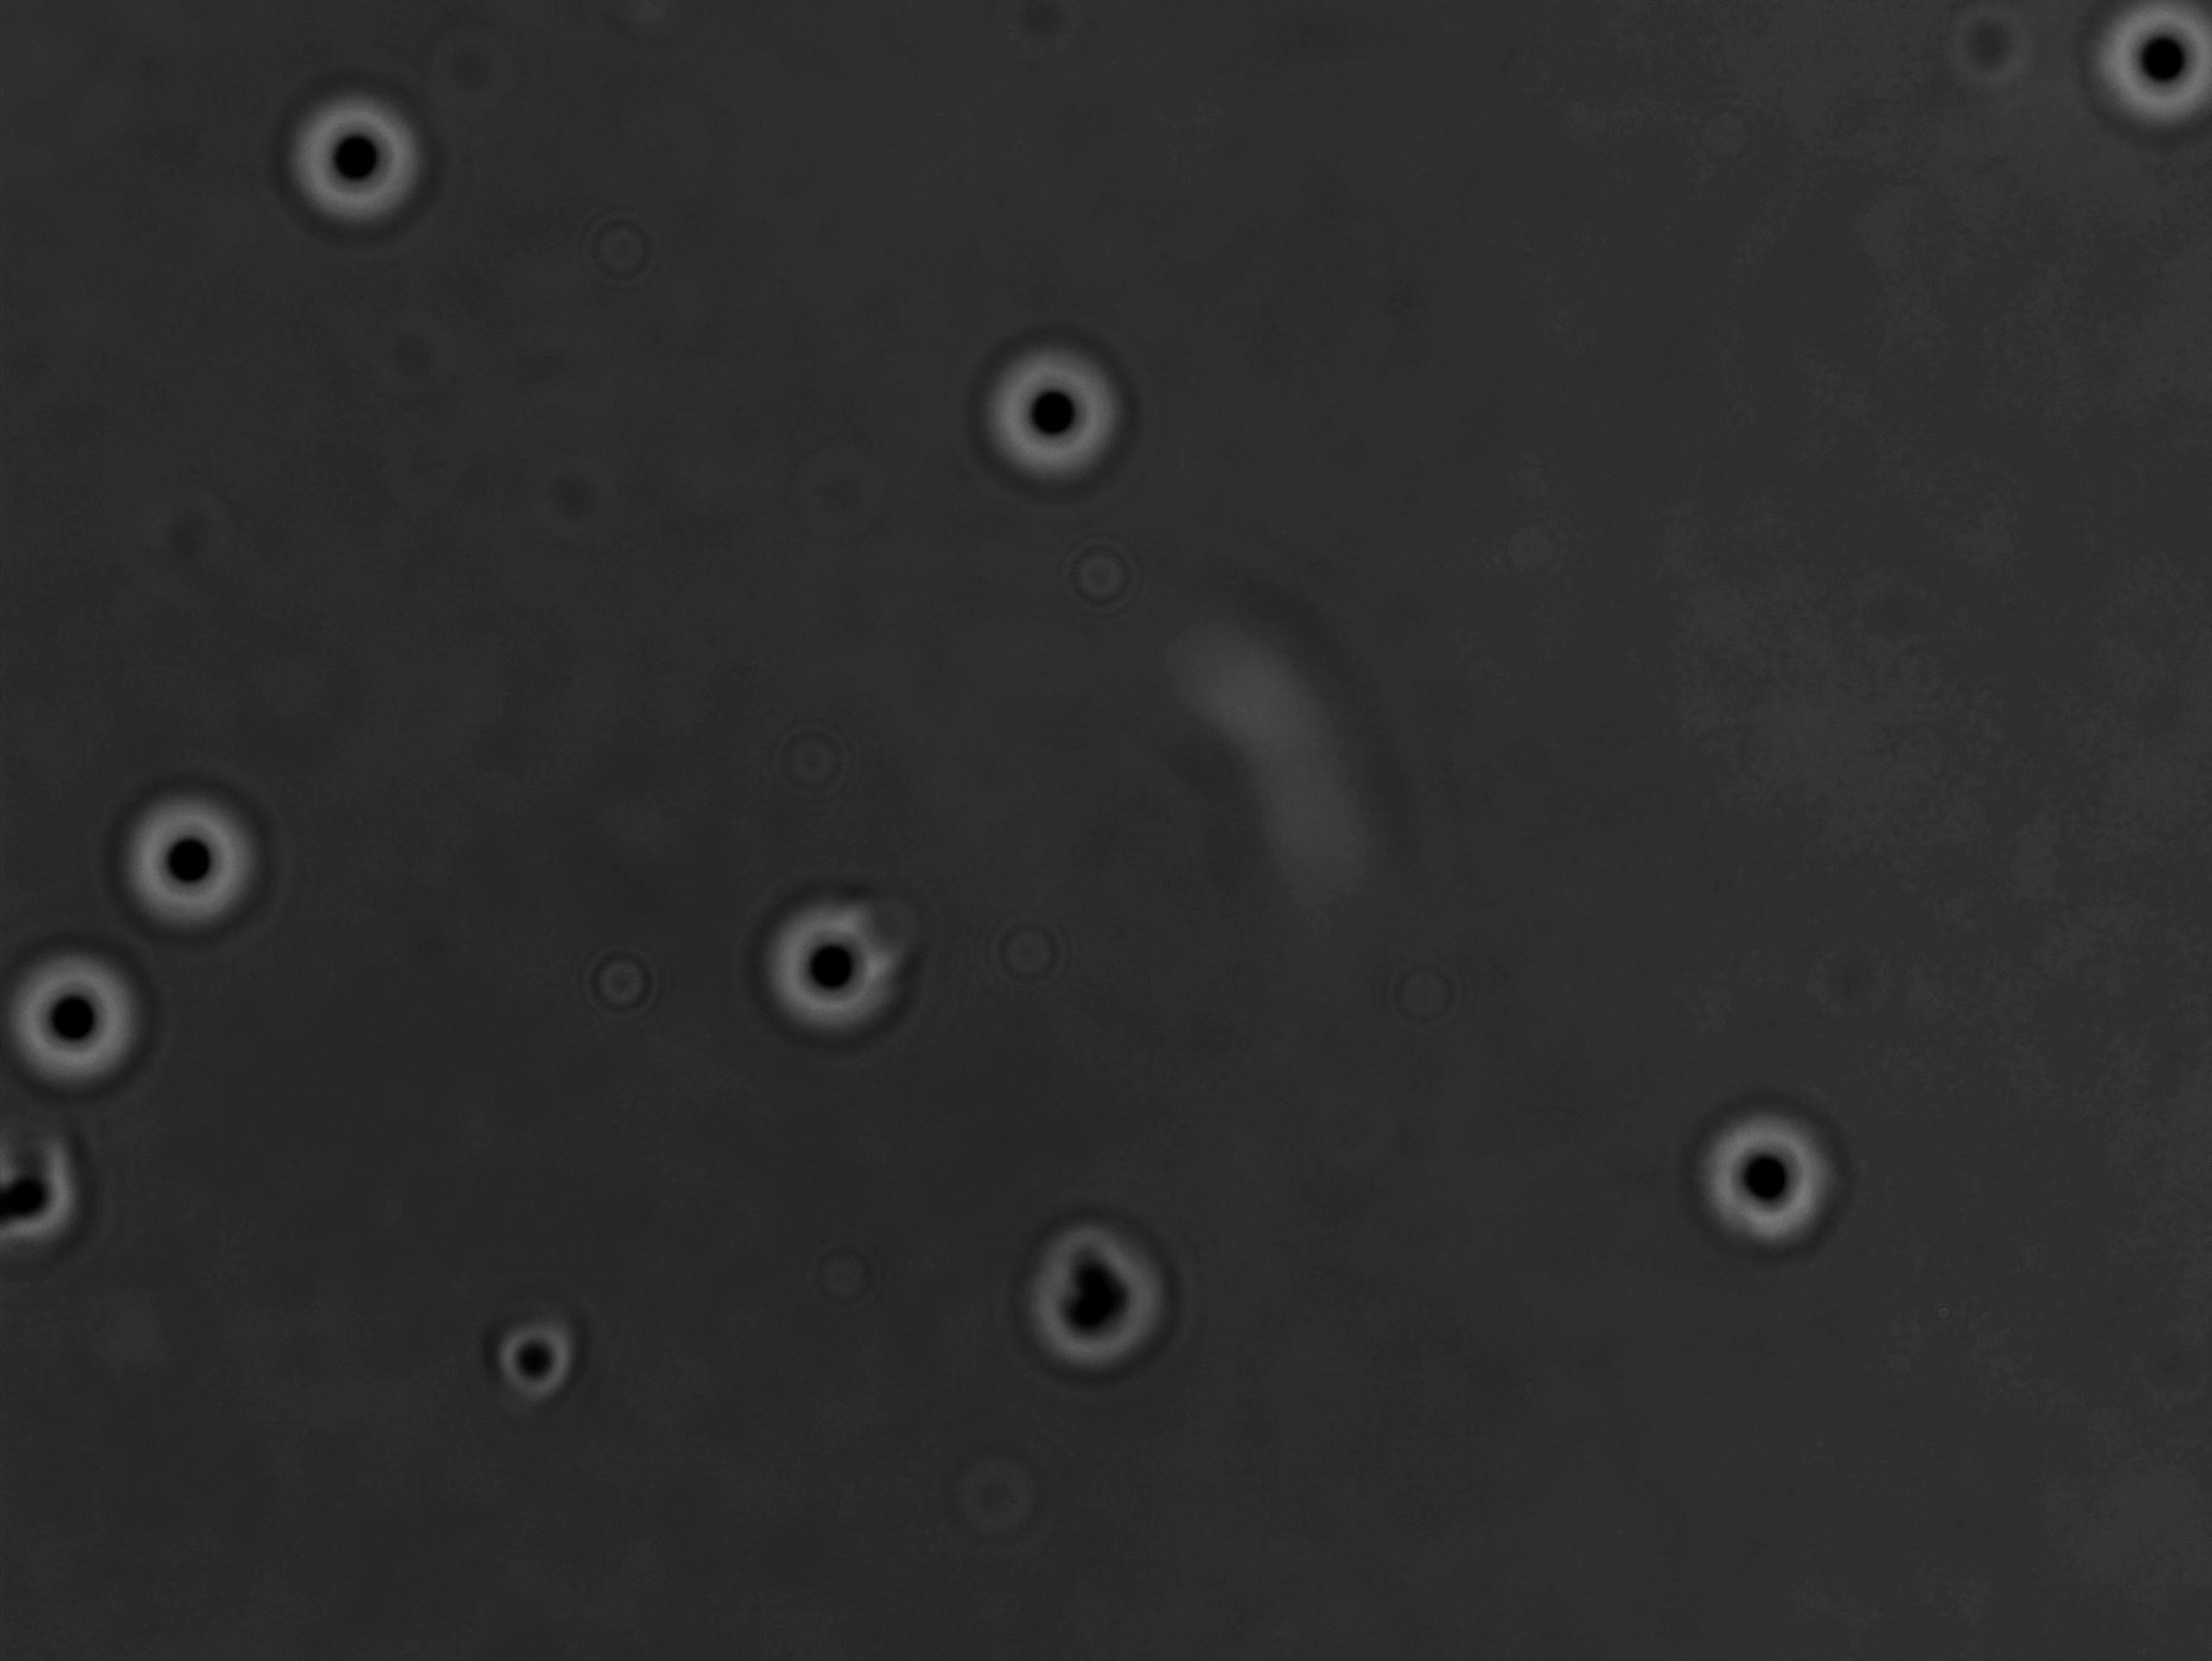depth:-40: (0, 932, 180, 1106), (1685, 1096, 1858, 1277), (743, 878, 912, 1049), (106, 775, 281, 937), (973, 328, 1143, 494), (276, 82, 438, 239)
